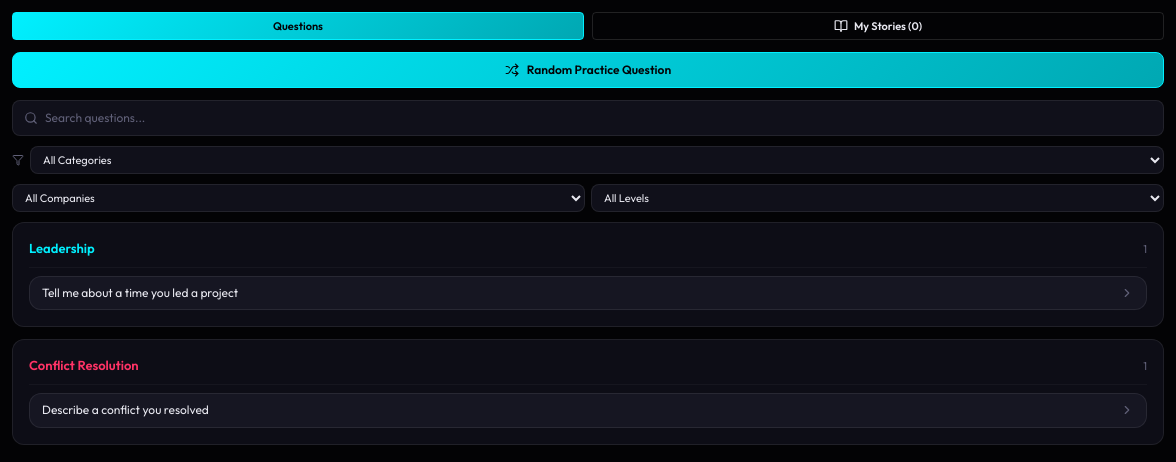
BehavioralPanel › filter behavior › shows result count when search is active
This screenshot has width=1176, height=462.
Type "conflict" into the field with placeholder "Search questions...".
click(588, 118); type("conflict")  # box x1=12 y1=100 x2=1164 y2=136
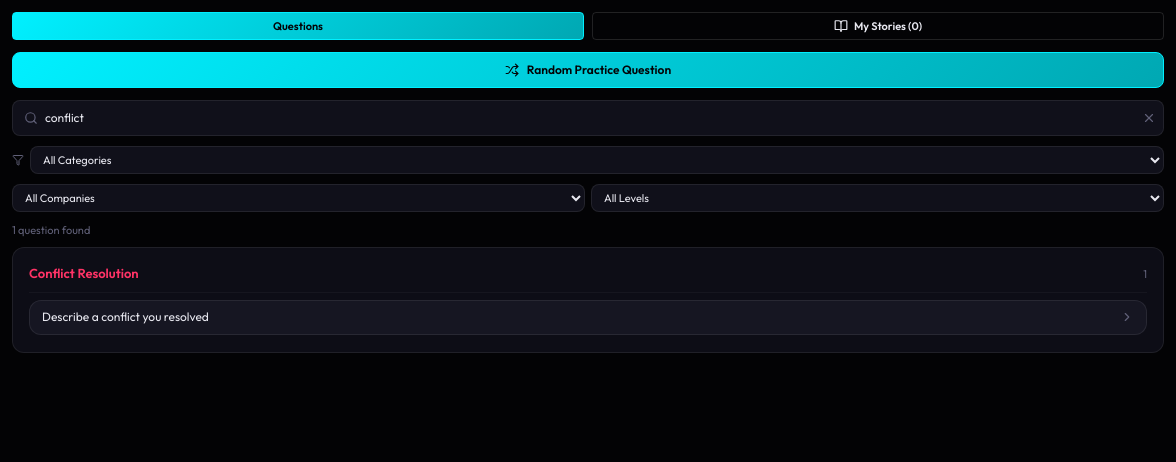
Now the text "1 question found" is shown, box x1=12 y1=223 x2=90 y2=237
